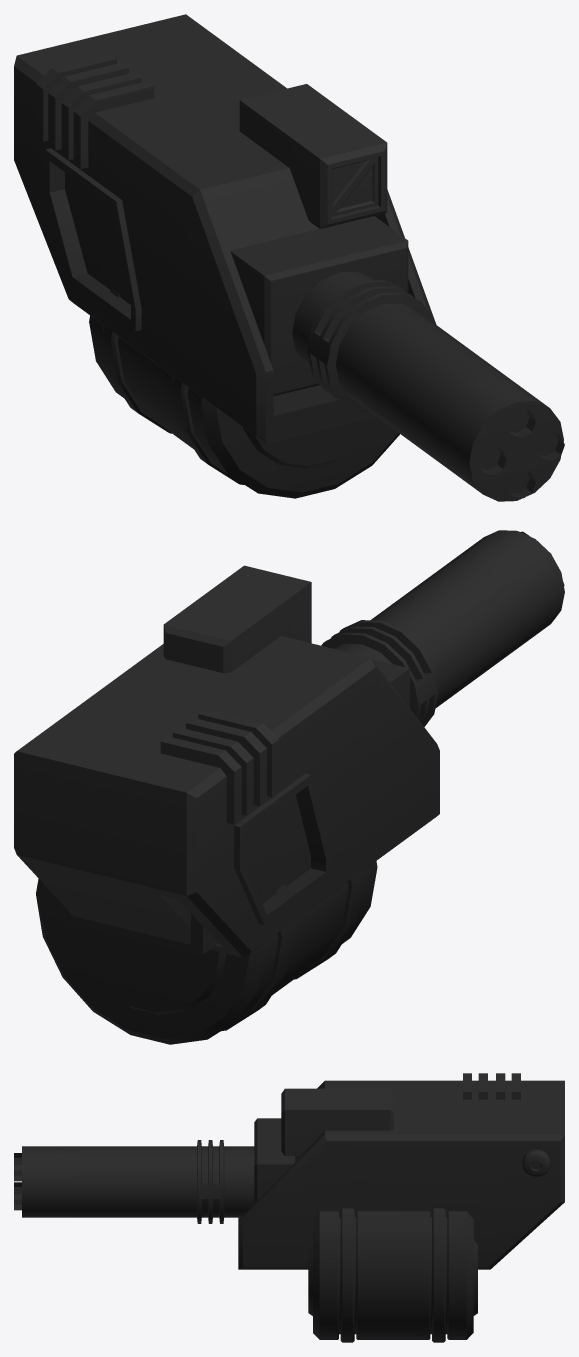
Rendered from rotary_cannon_l.glb.
The picture shows the model from 3 angles, top to bottom: view 1: azimuth 30°, elevation 25°; view 2: azimuth 150°, elevation 25°; view 3: azimuth 270°, elevation 25°; orthographic projection. The views are drawn at different scales.
Visible parts, largest first — view 1: polySurface1; view 2: polySurface1; view 3: polySurface1.
Part boxes in pixels (x1,y1,x2,y2): polySurface1: (14, 14, 564, 501); polySurface1: (14, 530, 564, 1044); polySurface1: (14, 1073, 564, 1342).
Size of the model in its own units: 0.6686 by 0.9559 by 2.01.
1 material, 1 textured.
